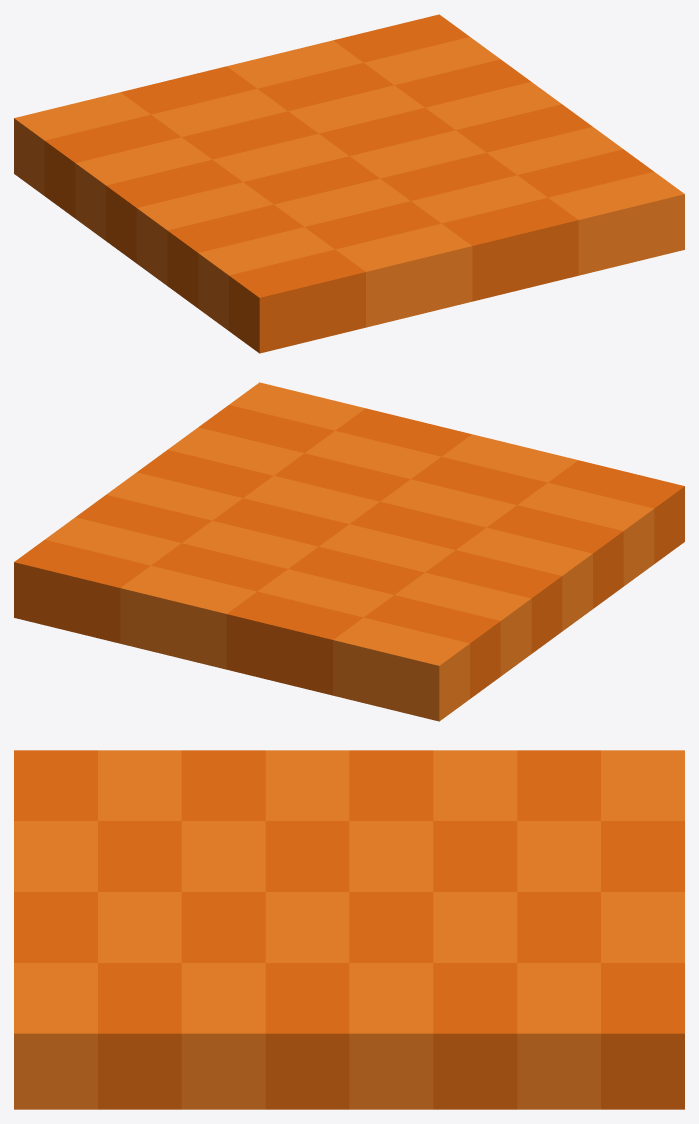
Rendered from carpet_orange_model.glb.
3 views of the same model, one above another, from view 1: azimuth 30°, elevation 25°; view 2: azimuth 150°, elevation 25°; view 3: azimuth 270°, elevation 25° (orthographic). The views are drawn at different scales.
Visible parts, largest first — view 1: Untitled; view 2: Untitled; view 3: Untitled.
Boxes of the visible parts, box(x1,y1,x2,y2) form: Untitled: box(14, 14, 684, 353); Untitled: box(14, 382, 684, 721); Untitled: box(14, 750, 684, 1109).
Bounding box in the file's own units: 0.8 × 0.1 × 0.8.
Materials: 1 (1 with a texture image).
